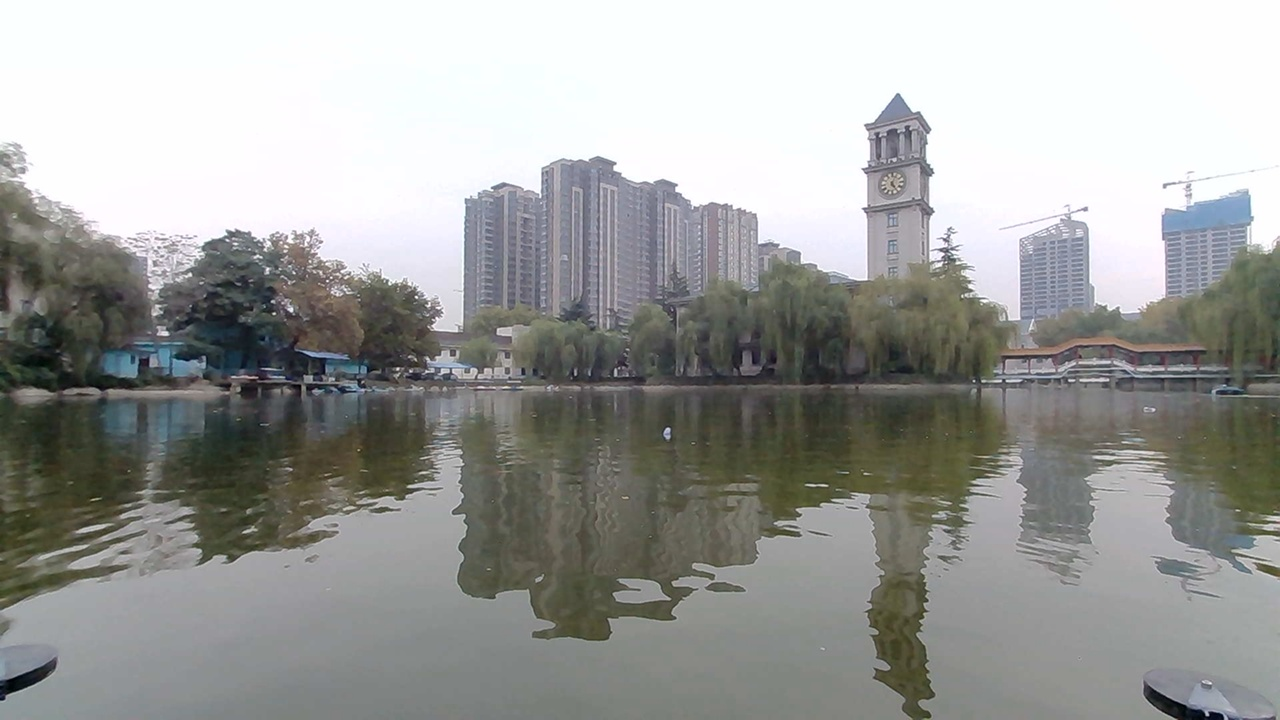bottle: (642, 414, 694, 446), (1139, 399, 1171, 418)
